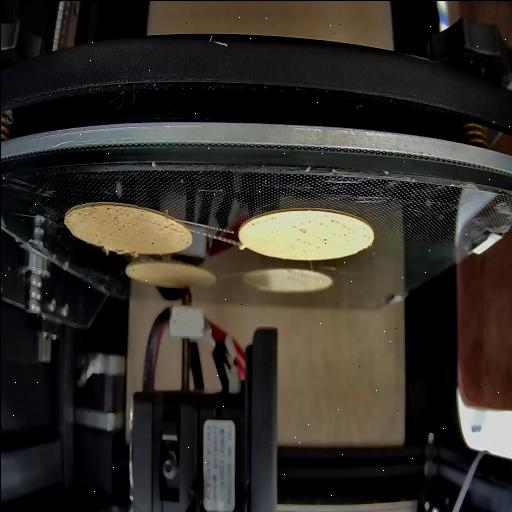under_extrusion: (290, 214, 350, 250), (76, 204, 136, 236), (150, 214, 181, 237), (248, 210, 278, 230)
